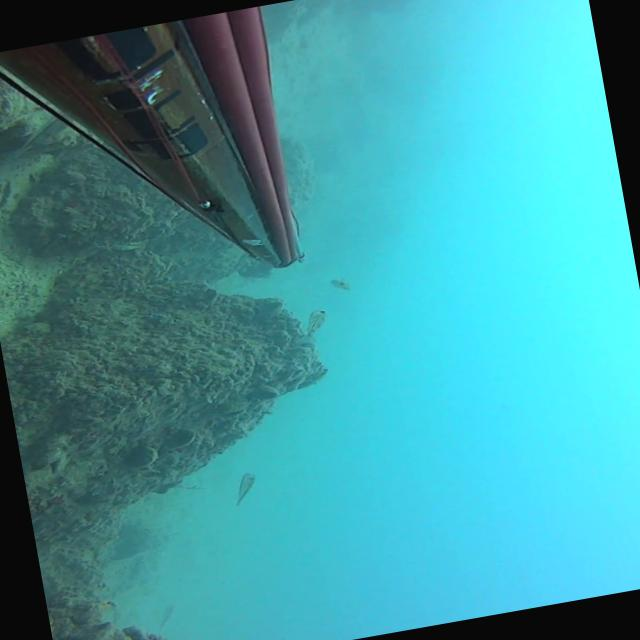Balon Baligi: (294, 309, 330, 344), (230, 471, 258, 506), (154, 604, 177, 630), (328, 277, 351, 293)
